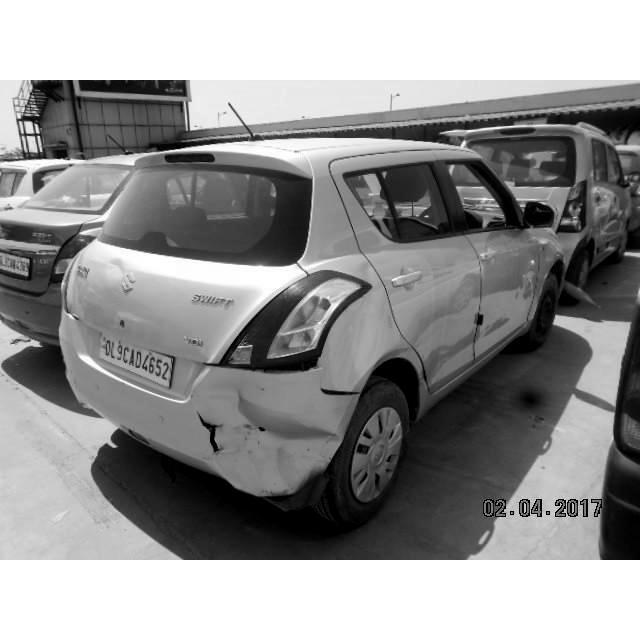rear-bumper-dent: (134, 364, 387, 506)
